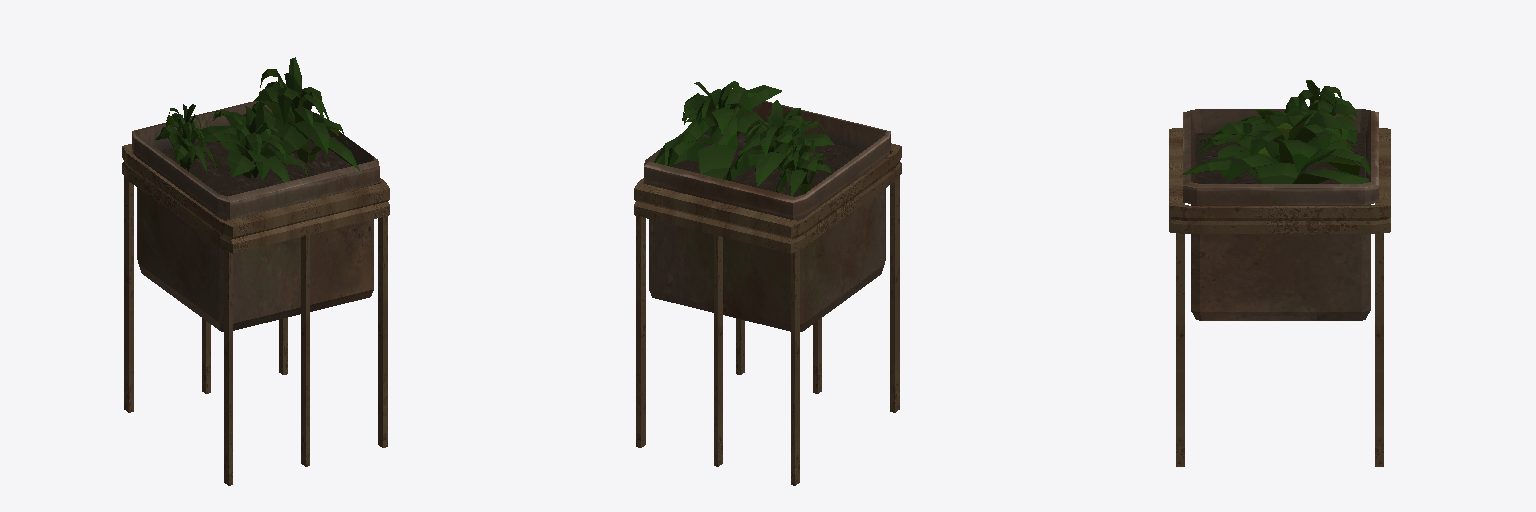
The picture shows the model from 3 angles: view 1: azimuth 30°, elevation 25°; view 2: azimuth 150°, elevation 25°; view 3: azimuth 270°, elevation 25°; orthographic projection.
Visible parts, largest first — view 1: plantBbox_01, Metal_planter_holder_Set, plantB; view 2: plantBbox_01, Metal_planter_holder_Set, plantB; view 3: plantBbox_01, Metal_planter_holder_Set, plantB.
Part boxes in pixels (x1,y1,x2,y2): plantBbox_01: (132,101,379,331); Metal_planter_holder_Set: (122,144,389,485); plantB: (155,57,359,182); plantBbox_01: (644,101,890,331); Metal_planter_holder_Set: (634,143,901,485); plantB: (654,81,833,195); plantBbox_01: (1183,109,1378,320); Metal_planter_holder_Set: (1169,128,1390,466); plantB: (1182,80,1370,205).
Size of the model in its own units: 42.46 by 84.85 by 49.45.
3 materials, 3 textured.